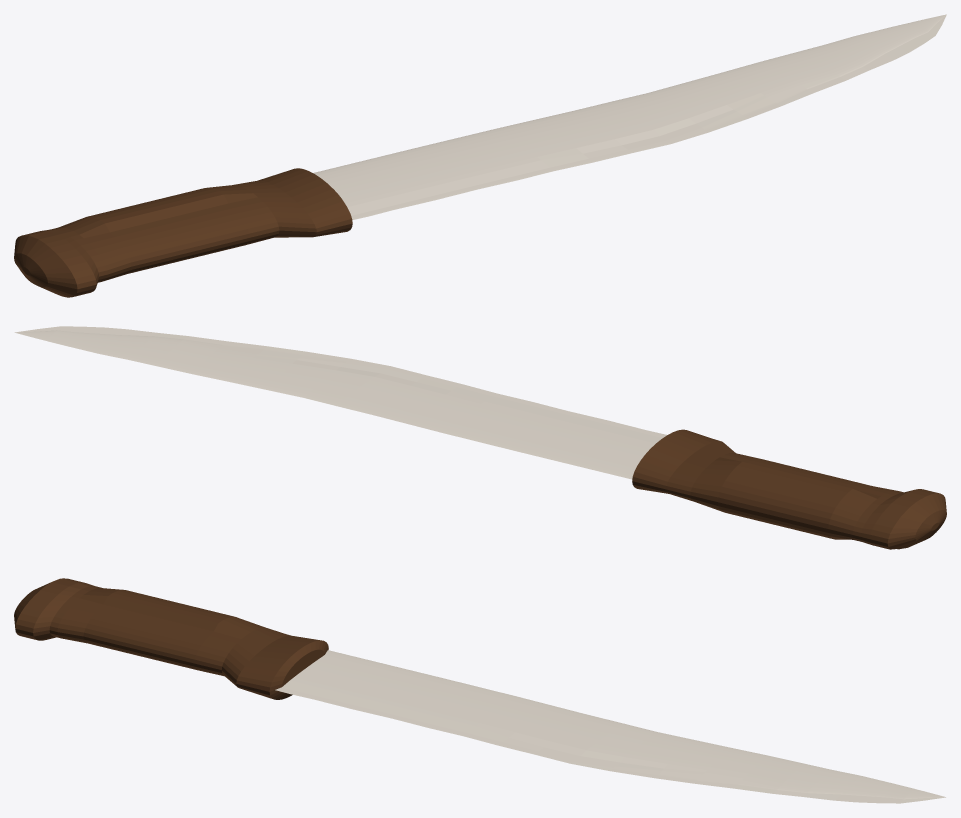
The model's file is mes1.fbx.
3 views of the same model, one above another, from view 1: azimuth 30°, elevation 25°; view 2: azimuth 150°, elevation 25°; view 3: azimuth 330°, elevation 25° (orthographic). The views are drawn at different scales.
Visible parts, largest first — view 1: Cone, Object; view 2: Cone, Object; view 3: Cone, Object.
Part boxes in pixels (x1,y1,x2,y2): Cone: [313, 14, 946, 219]; Object: [14, 168, 352, 297]; Cone: [14, 326, 666, 479]; Object: [632, 429, 946, 549]; Cone: [275, 650, 945, 803]; Object: [14, 578, 328, 699].
Bounding box in the file's own units: 2097 × 101 × 254.
